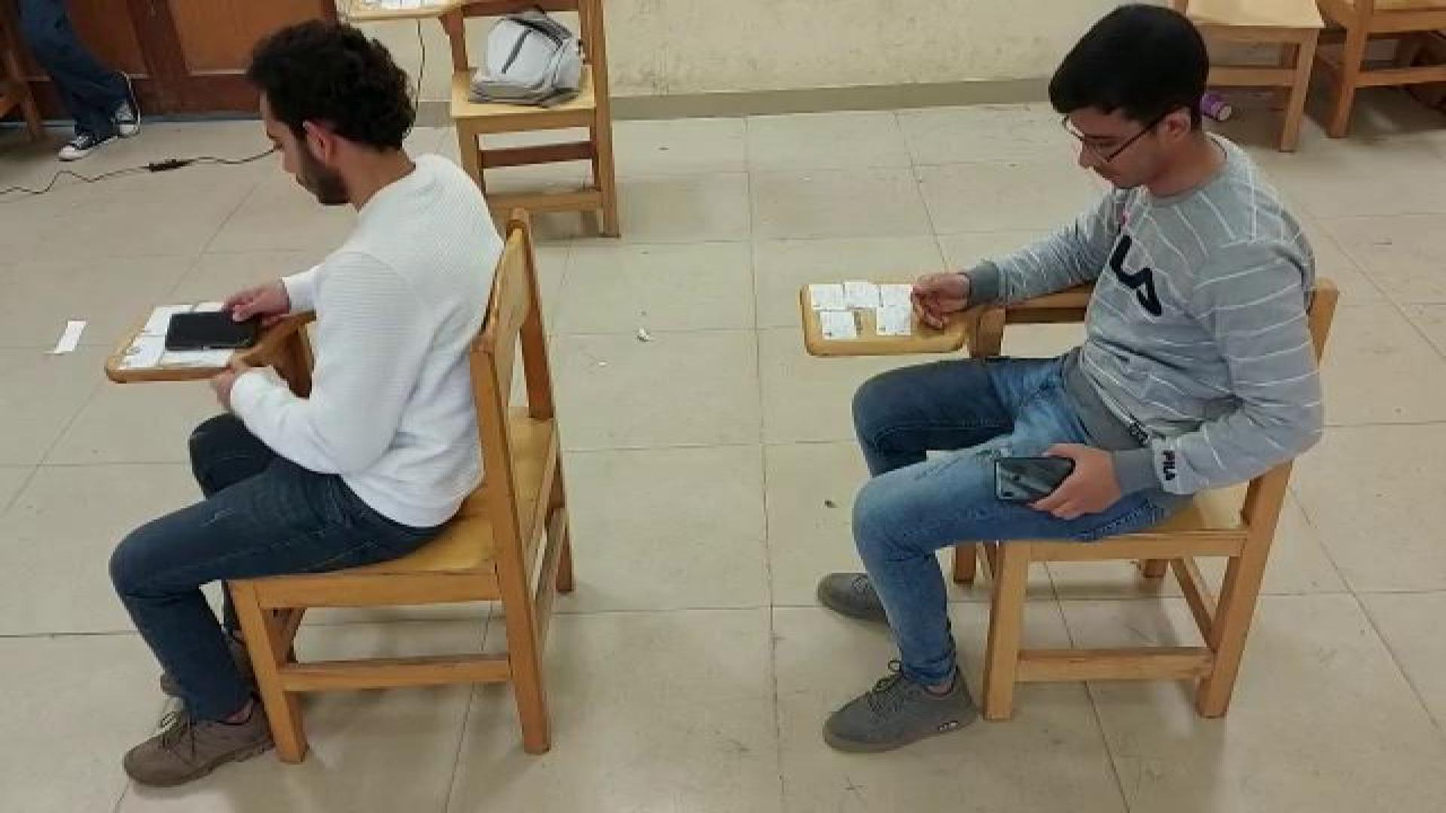phone: (990, 453, 1084, 508), (163, 309, 267, 354)
